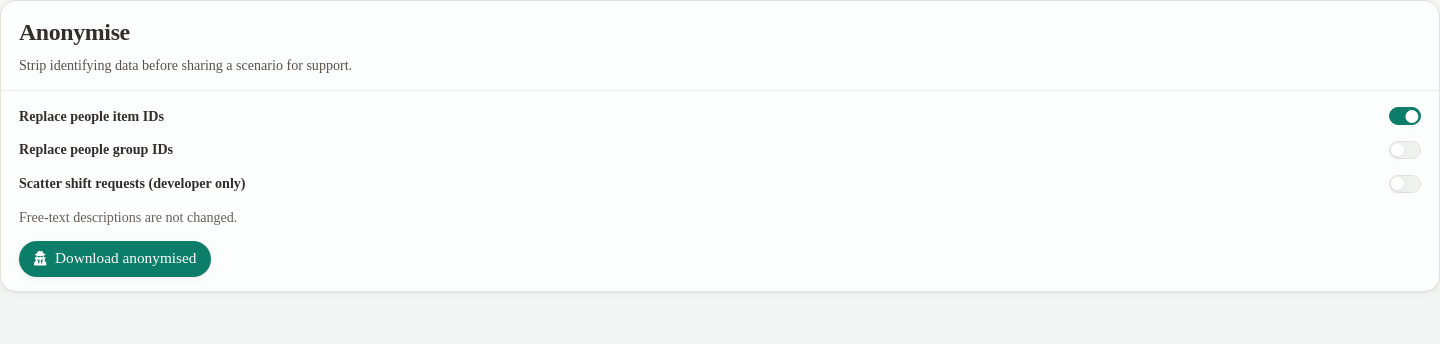
Test: AnonymiseCard — scatter fallback warning (FR-SL-38 / V20 / AC-SL-24) › hides the warning again when Scatter is toggled back off
Click the switch with test id "anonymise-toggle-scatter".
click(1405, 184)  # box [1389,175,1421,193]
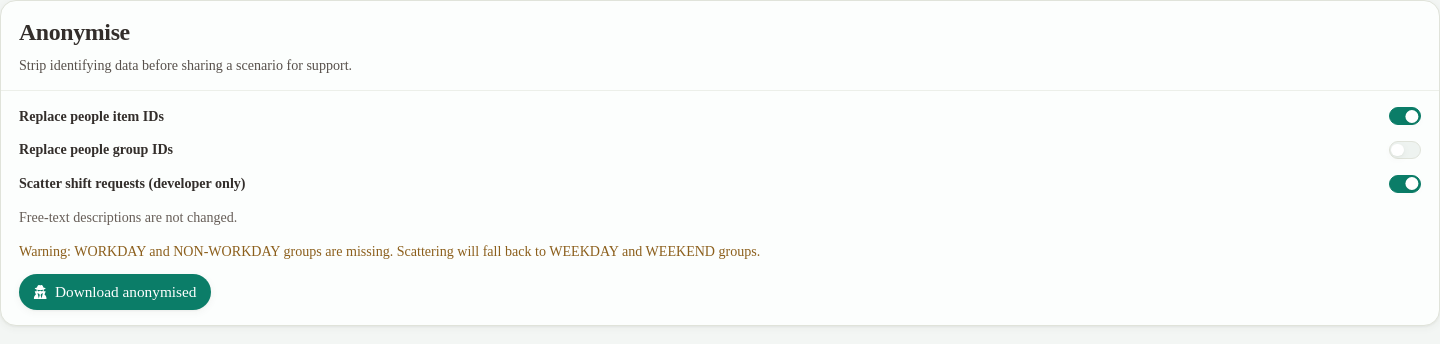
Check: the text with test id "anonymise-scatter-fallback-warning" is shown, box [19,242,760,258]
Click the switch with test id "anonymise-toggle-scatter".
click(1405, 184)  # box [1389,175,1421,193]
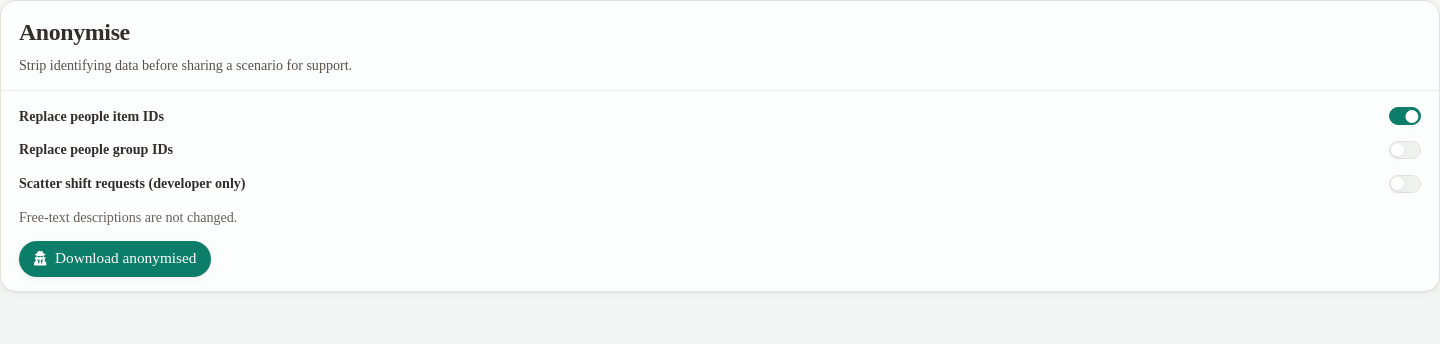
Check: the text with test id "anonymise-scatter-fallback-warning" is gone
